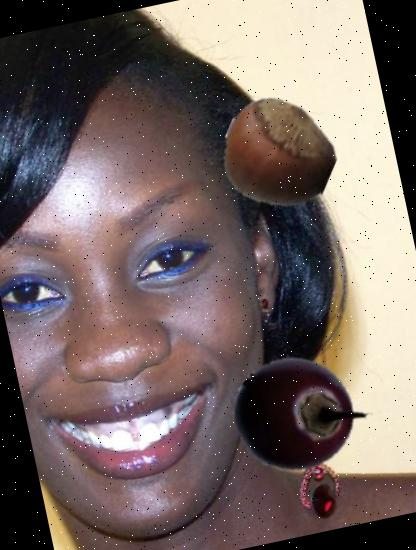Nut: (212, 87, 345, 220)
Tamarillo: (223, 344, 365, 486)
